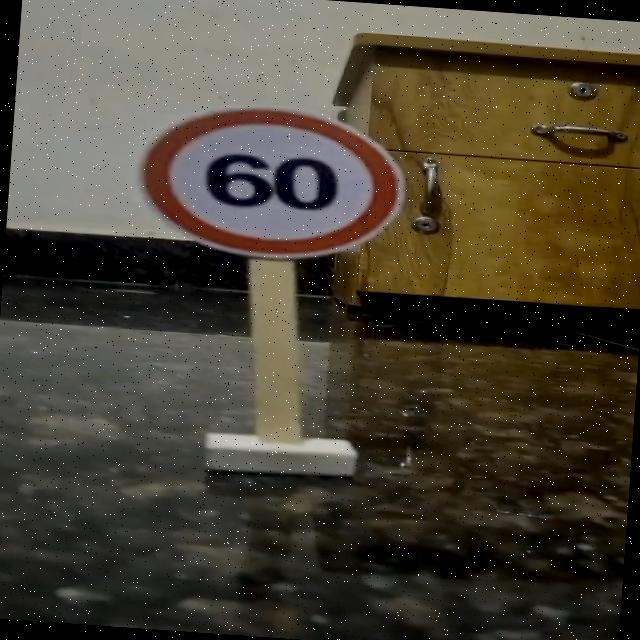Speed60: (126, 95, 416, 272)
